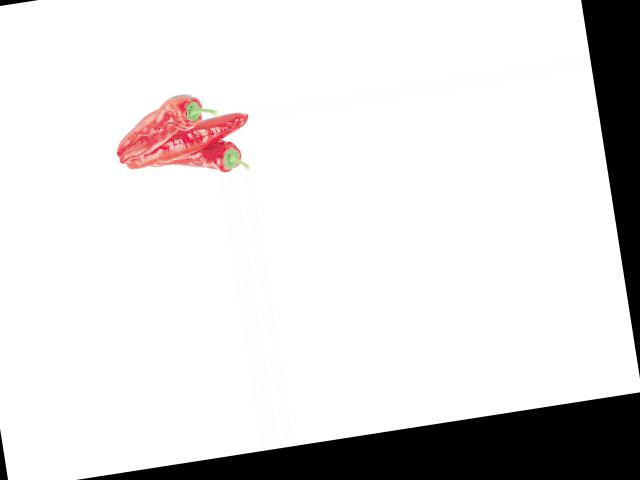bell_pepper: (107, 86, 223, 152)
